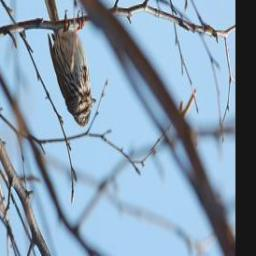Sparrow: (35, 0, 96, 131)
